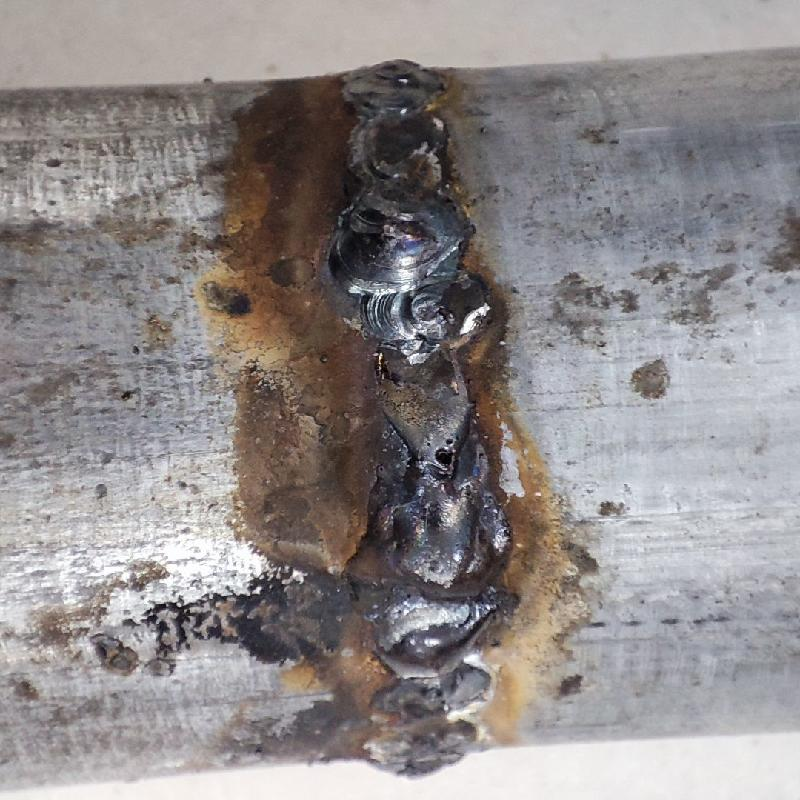Not_fully_soldered: (345, 293, 506, 474), (377, 681, 492, 760)
Surface_pores: (405, 426, 476, 475)
Weld: (376, 483, 502, 674)
wrong_size: (311, 63, 472, 282)
